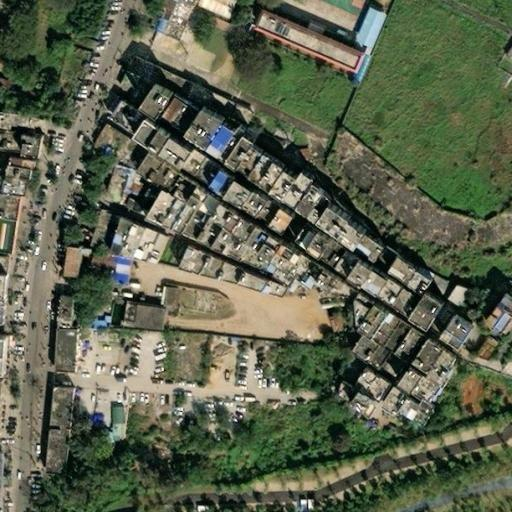building: (251, 11, 362, 74), (190, 111, 250, 167), (39, 389, 70, 478), (353, 296, 398, 348), (152, 93, 198, 135), (237, 186, 283, 227), (275, 174, 320, 215), (387, 259, 434, 298), (181, 82, 228, 118), (149, 193, 189, 235), (80, 200, 116, 246), (221, 209, 265, 246), (142, 125, 183, 162), (302, 188, 340, 227), (173, 207, 211, 246), (140, 65, 187, 96), (108, 220, 143, 259), (350, 336, 389, 371), (114, 300, 158, 331), (415, 298, 450, 335), (106, 102, 144, 136), (442, 319, 477, 355), (323, 209, 360, 243), (48, 328, 73, 378), (257, 156, 293, 190), (171, 143, 207, 177), (430, 352, 462, 390), (348, 9, 378, 48), (414, 343, 446, 379), (133, 229, 163, 267), (233, 138, 263, 175), (281, 249, 314, 282), (354, 371, 388, 403), (153, 166, 187, 198), (392, 329, 422, 365), (187, 0, 236, 21), (323, 276, 359, 304), (379, 388, 410, 419), (390, 290, 421, 321), (225, 233, 258, 262), (372, 277, 402, 308), (382, 322, 410, 355), (197, 221, 226, 252), (347, 225, 375, 255), (194, 192, 224, 220), (294, 225, 322, 254), (195, 158, 223, 187), (313, 237, 340, 267), (137, 156, 165, 184), (267, 240, 294, 269), (249, 255, 279, 281), (3, 158, 33, 183), (254, 231, 280, 259), (409, 401, 435, 429), (469, 335, 494, 364), (241, 274, 271, 298), (363, 241, 390, 267), (108, 399, 126, 438), (405, 373, 430, 401), (359, 268, 384, 295), (300, 265, 325, 292), (338, 254, 363, 280), (419, 381, 443, 408), (176, 180, 200, 207), (260, 138, 287, 162), (182, 292, 210, 315), (0, 280, 13, 329), (50, 298, 71, 328), (216, 174, 240, 199), (279, 148, 304, 172), (220, 104, 245, 128), (183, 252, 206, 278), (120, 56, 146, 79), (23, 139, 47, 163), (444, 284, 467, 309), (248, 151, 269, 178), (279, 213, 303, 236), (59, 248, 77, 278), (201, 260, 223, 284), (218, 266, 242, 288), (327, 248, 348, 273), (362, 401, 384, 423), (103, 165, 122, 189), (495, 38, 512, 63), (152, 286, 171, 307), (266, 283, 286, 301), (99, 185, 117, 205), (168, 289, 186, 309), (231, 251, 251, 268), (204, 339, 220, 360), (299, 21, 320, 35), (125, 196, 140, 213), (145, 345, 155, 369), (117, 168, 128, 188), (218, 244, 232, 258), (106, 263, 121, 276), (107, 256, 122, 266), (341, 71, 353, 83), (87, 317, 99, 329), (0, 110, 4, 138), (119, 198, 129, 209), (0, 356, 6, 374), (133, 208, 142, 217)
